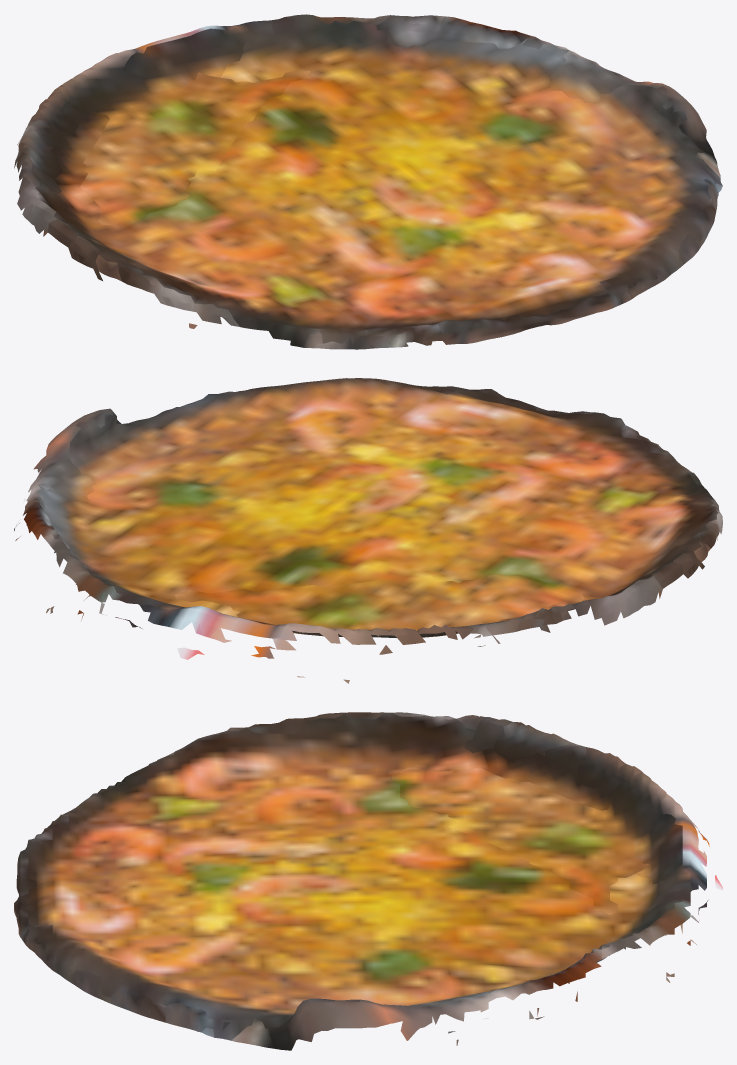
Rendered from paella_scan.glb.
The picture shows the model from 3 angles, top to bottom: view 1: azimuth 30°, elevation 25°; view 2: azimuth 150°, elevation 25°; view 3: azimuth 270°, elevation 25°; orthographic projection.
Parts seen in each view (by area): view 1: Object_2; view 2: Object_2; view 3: Object_2.
Part boxes in pixels (<box>): Object_2: <box>14,14,722,349</box>; Object_2: <box>14,378,722,683</box>; Object_2: <box>14,712,722,1050</box>.
Size of the model in its own units: 0.5302 by 0.0438 by 0.5268.
1 material, 1 textured.
